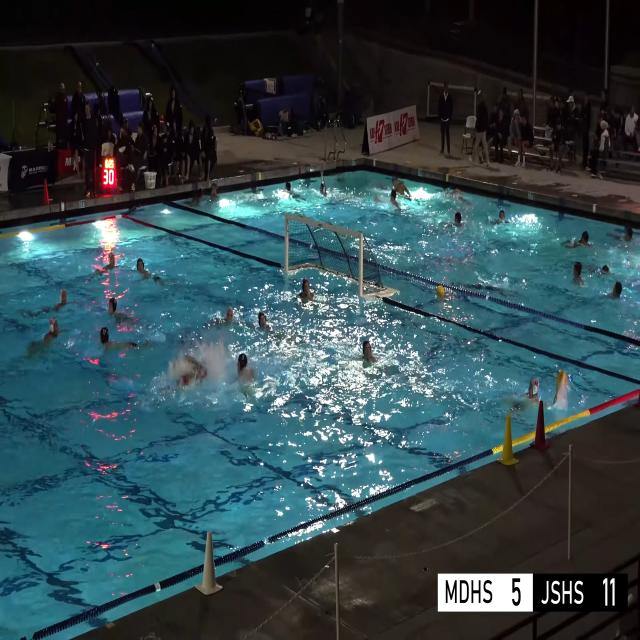ball: (437, 285, 444, 298)
